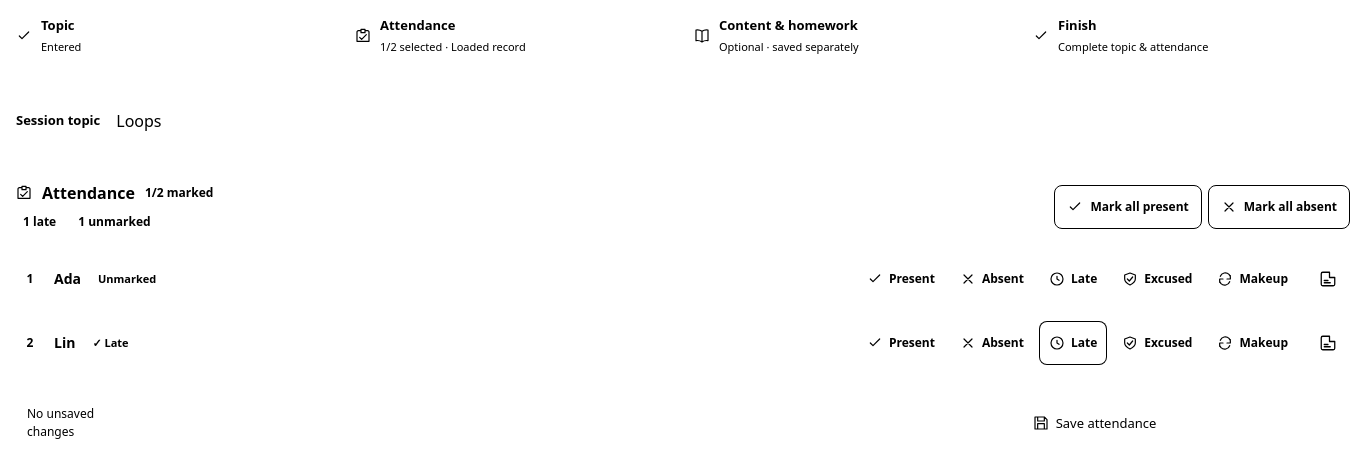
Test: session attendance workspace › distinguishes selected attendance from saved attendance in the checklist
Expected: the navigation bar named "Class checklist" shows "1/2 selected · Loaded record", [0, 0, 1365, 71]
Click the button with aria-label "Ada: Present".
click(901, 279)  # box [857, 257, 945, 301]
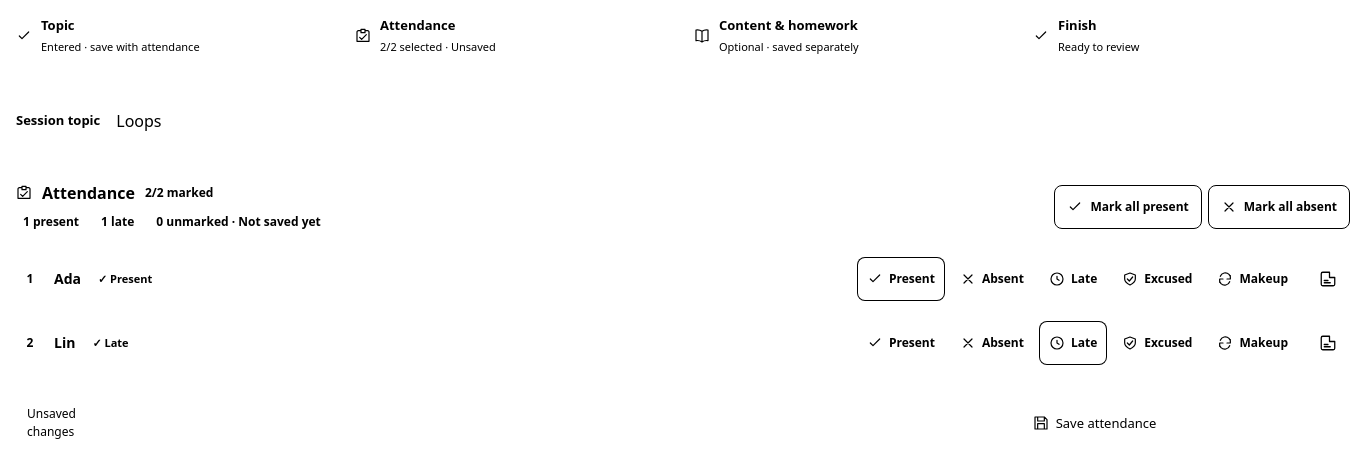
Now the navigation bar named "Class checklist" shows "2/2 selected · Unsaved", box [0, 0, 1365, 71]
Click the button "Save attendance".
click(1095, 423)  # box [1017, 401, 1172, 445]
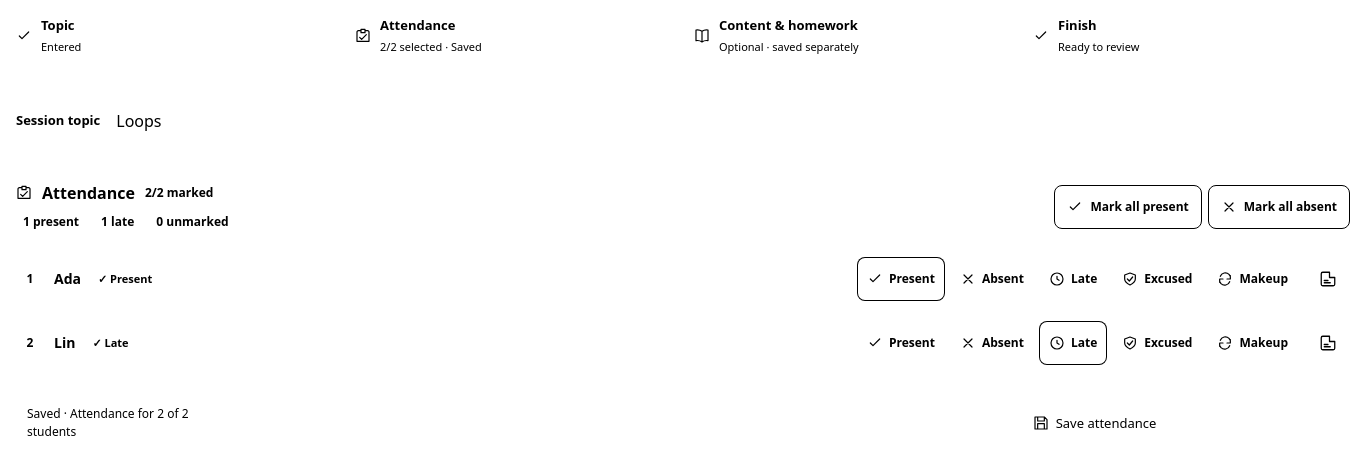
Now the navigation bar named "Class checklist" shows "2/2 selected · Saved", box [0, 0, 1365, 71]
